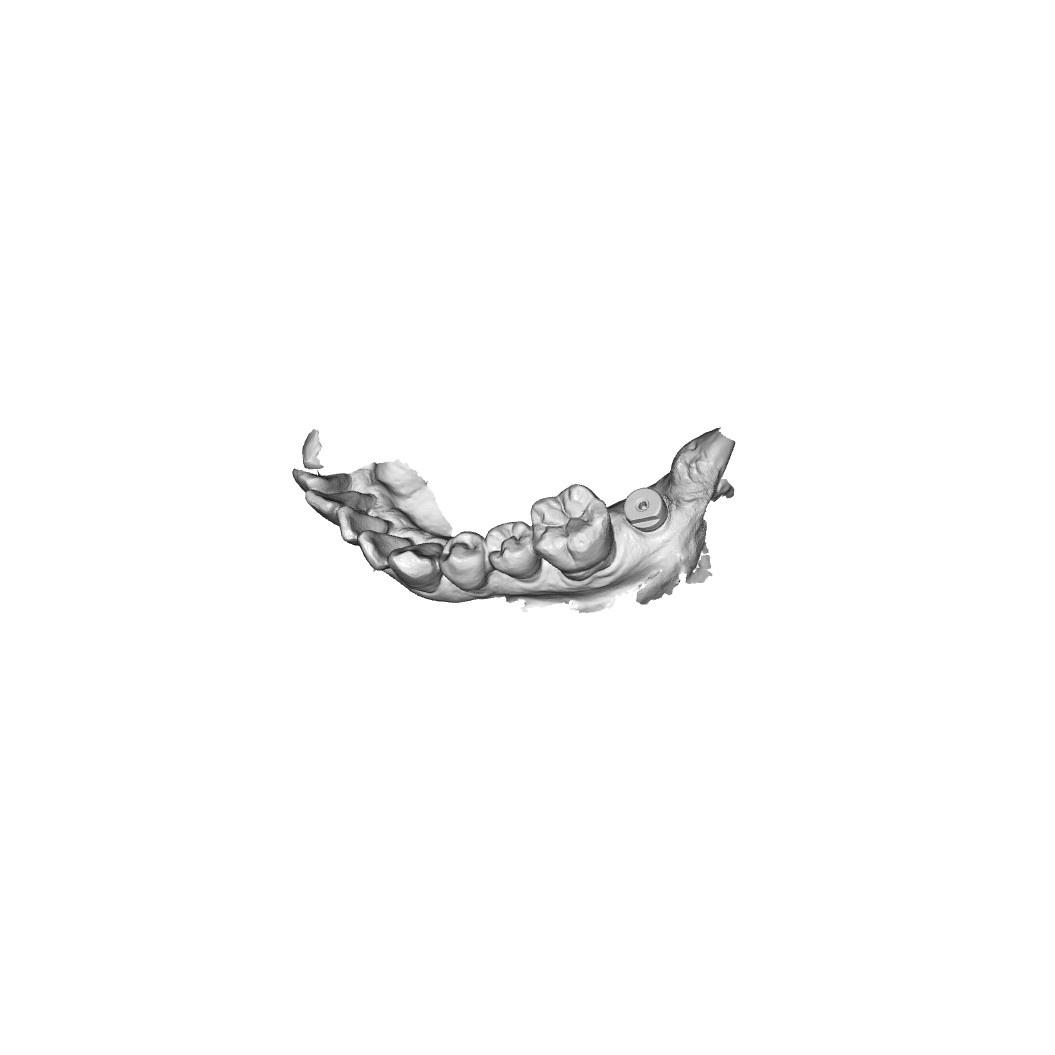canine: (391, 539, 443, 588)
implant: (625, 486, 674, 529)
incisor: (306, 487, 376, 519), (339, 504, 389, 545), (360, 528, 409, 568)
molar: (527, 480, 617, 567)
premolar: (438, 532, 497, 590), (482, 519, 538, 575)
